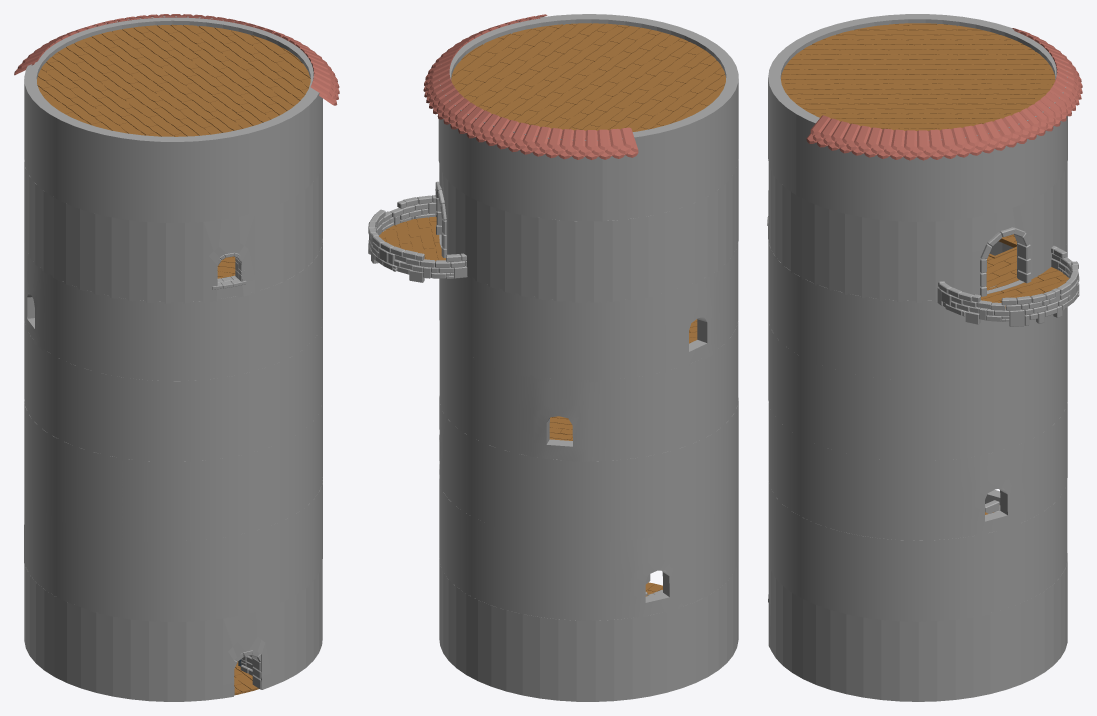
Rendered from torre4.fbx.
The picture shows the model from 3 angles, left to right: view 1: azimuth 30°, elevation 25°; view 2: azimuth 150°, elevation 25°; view 3: azimuth 270°, elevation 25°; orthographic projection.
Parts seen in each view (by area): view 1: pCylinder13, pCylinder11, pCylinder20, pDisc22, pCylinder19, pCylinder18, pCylinder17, pCylinder12, pCube3467, polySurface77; view 2: pCylinder13, pCylinder12, pCylinder20, pCylinder17, pCylinder11, pCylinder18, pCylinder19, pDisc22, pCube3467, pCube3468, polySurface66; view 3: pCylinder19, pCylinder12, pCylinder11, pCylinder20, pCylinder13, pDisc22, pCylinder17, pCylinder18, pCube3467, pCube3468, polySurface66.
Boxes of the visible parts, box(x1,y1,x2,y2) form: pCylinder13: box(24, 16, 322, 222); pCylinder11: box(24, 320, 322, 462); pCylinder20: box(24, 399, 322, 542); pDisc22: box(37, 24, 310, 136); pCylinder19: box(24, 477, 322, 621); pCylinder18: box(24, 239, 322, 382); pCylinder17: box(24, 160, 322, 303); pCylinder12: box(24, 562, 322, 701); pCube3467: box(14, 14, 339, 105); polySurface77: box(212, 252, 246, 289); pCylinder13: box(438, 14, 738, 221); pCylinder12: box(439, 559, 738, 701); pCylinder20: box(439, 396, 738, 542); pCylinder17: box(439, 159, 738, 302); pCylinder11: box(439, 321, 738, 461); pCylinder18: box(439, 234, 738, 382); pCylinder19: box(439, 475, 738, 620); pDisc22: box(451, 23, 725, 131); pCube3467: box(423, 14, 638, 159); pCube3468: box(368, 195, 467, 282); polySurface66: box(435, 181, 446, 257); pCylinder19: box(768, 482, 1067, 621); pCylinder12: box(768, 553, 1067, 701); pCylinder11: box(768, 320, 1067, 461); pCylinder20: box(768, 399, 1067, 540); pCylinder13: box(768, 14, 1067, 221); pDisc22: box(781, 23, 1055, 130); pCylinder17: box(768, 162, 1067, 302); pCylinder18: box(768, 240, 1067, 382); pCube3467: box(806, 28, 1082, 160); pCube3468: box(937, 234, 1079, 326); polySurface66: box(980, 227, 1031, 296).
Bounding box in the file's own units: 21.67 × 39.73 × 19.98.
